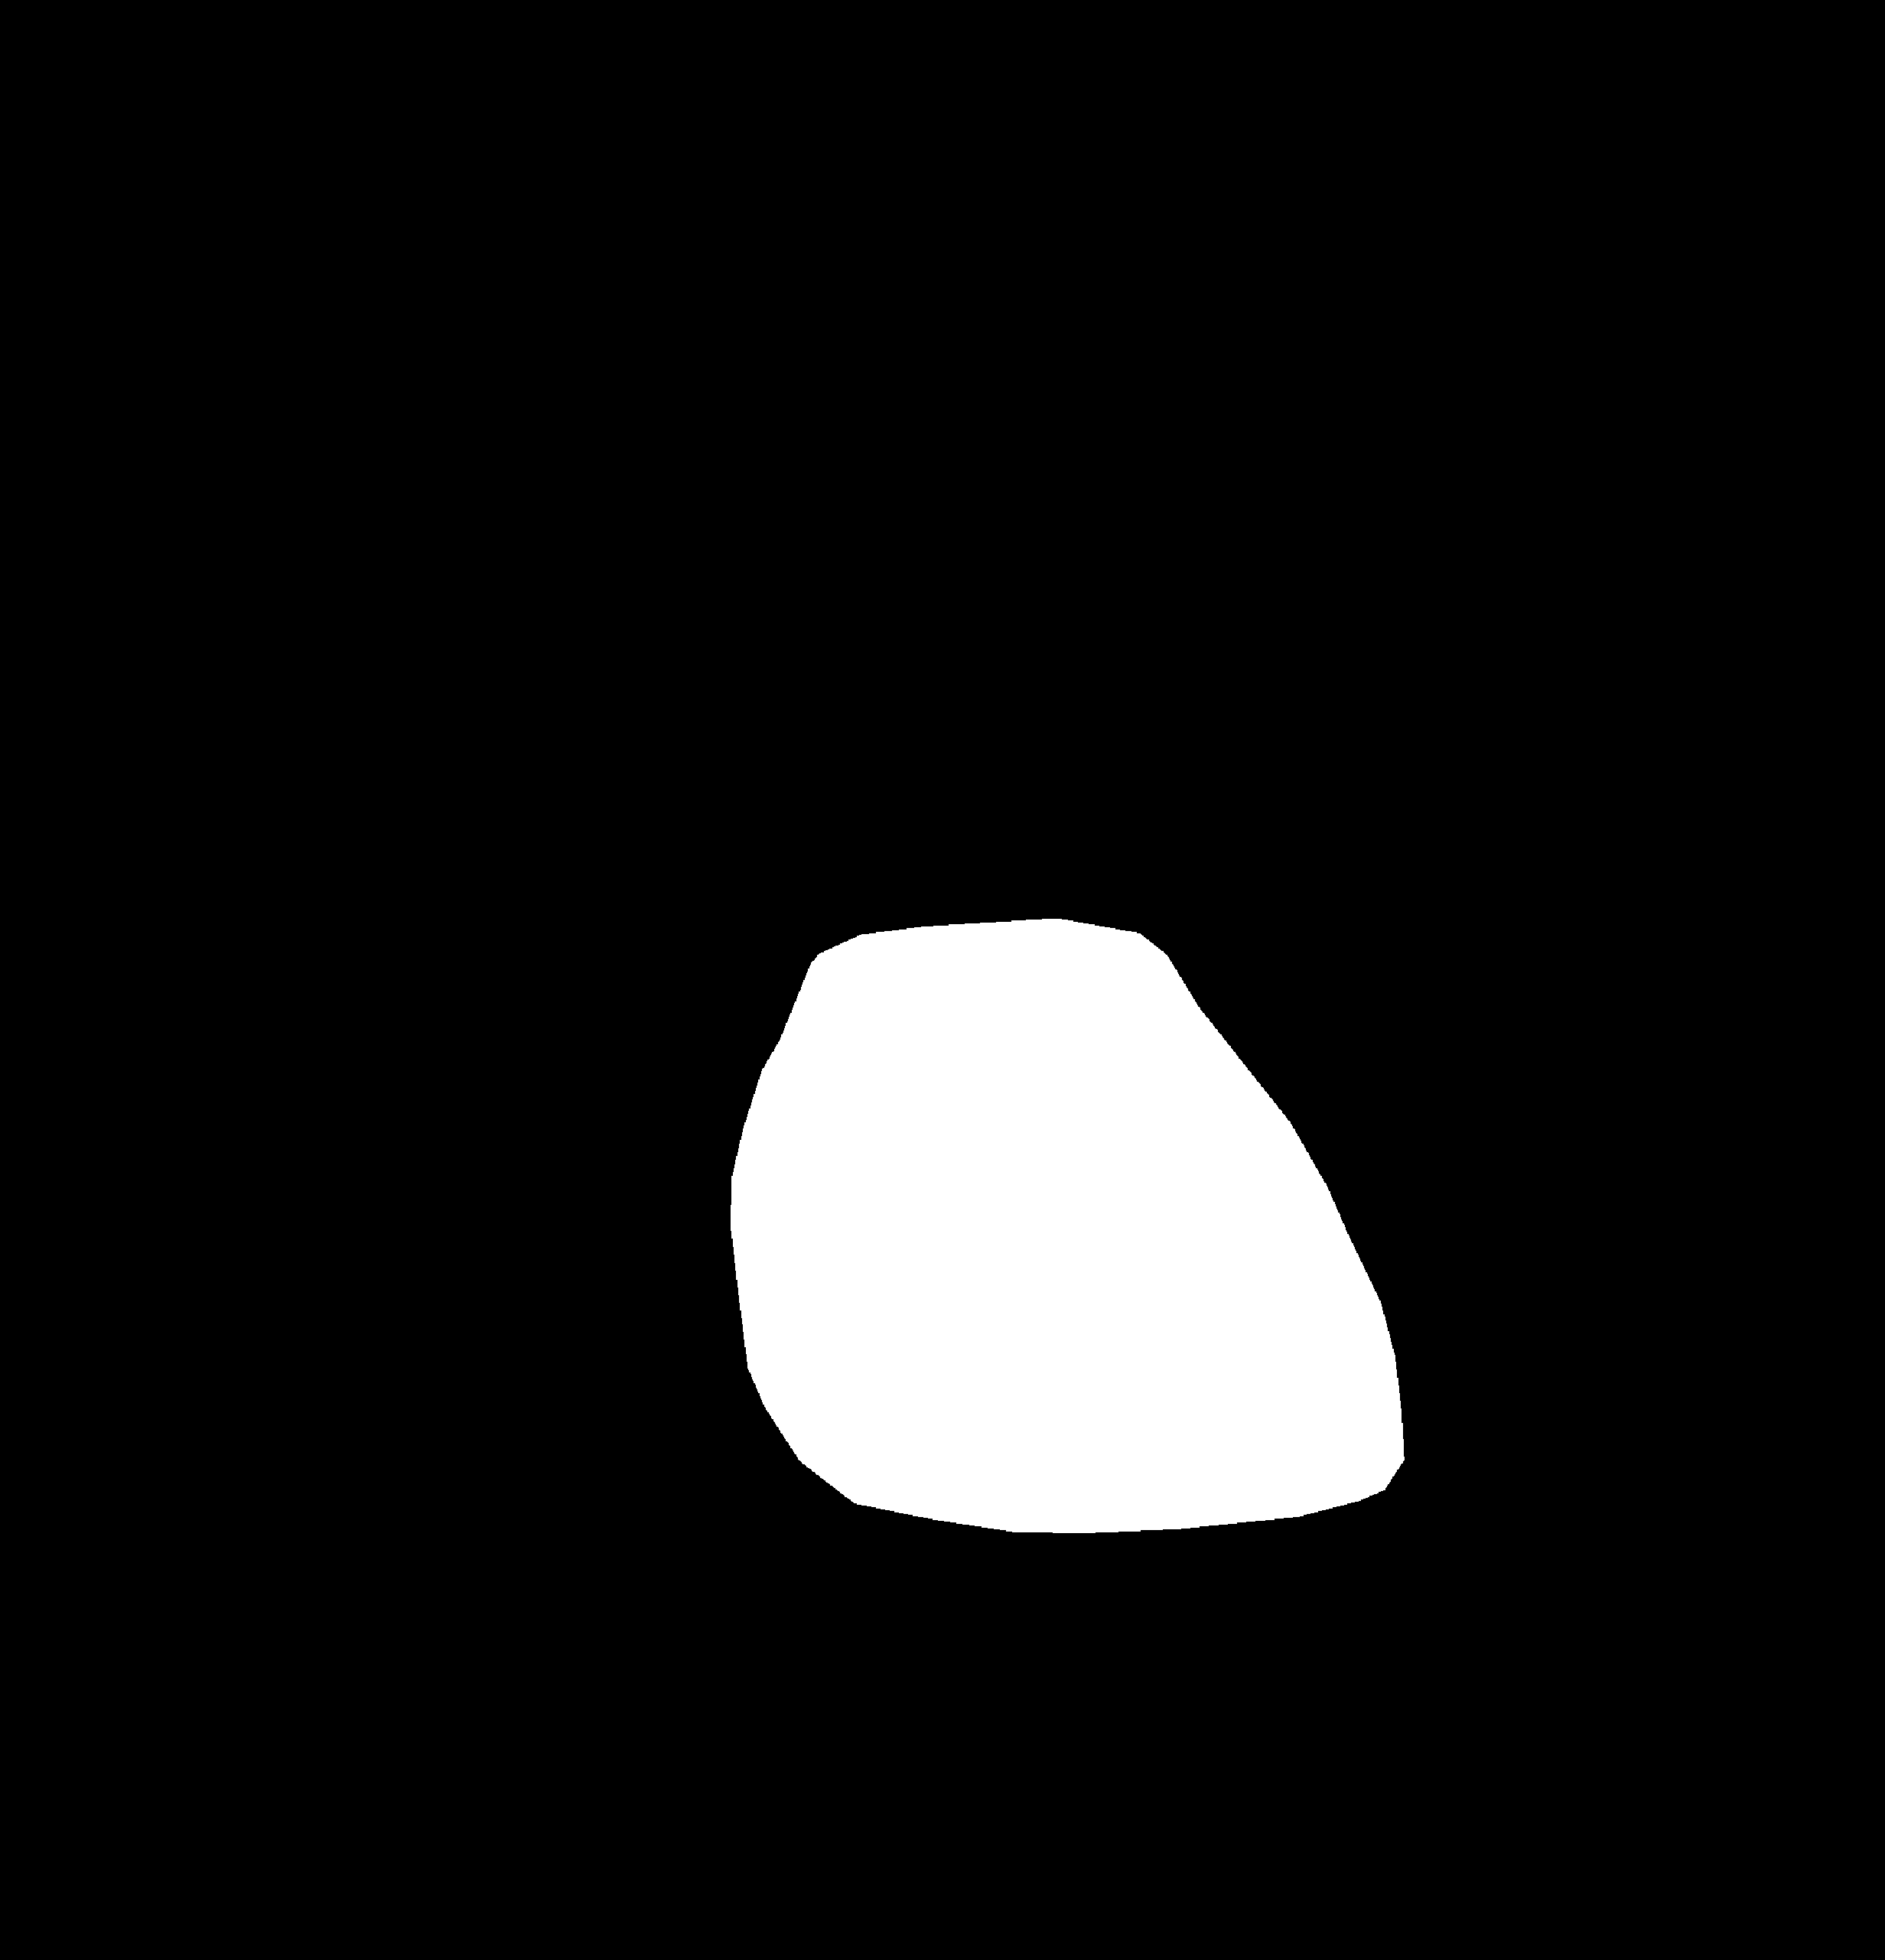heart: (723, 1001, 1404, 1580)
left_lung: (191, 154, 872, 1673)
right_lung: (1015, 166, 1668, 1655)
